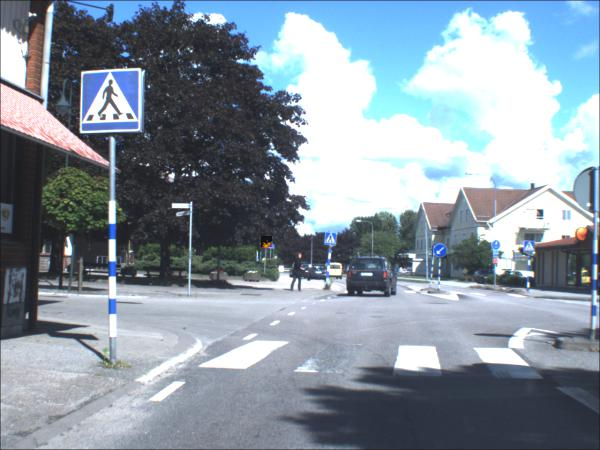50_SIGN: (261, 238, 273, 250)
PASS_RIGHT_SIDE: (432, 245, 448, 260)
PEDESTRIAN_CROSSING: (81, 71, 141, 135), (324, 233, 337, 247), (524, 243, 536, 254)
